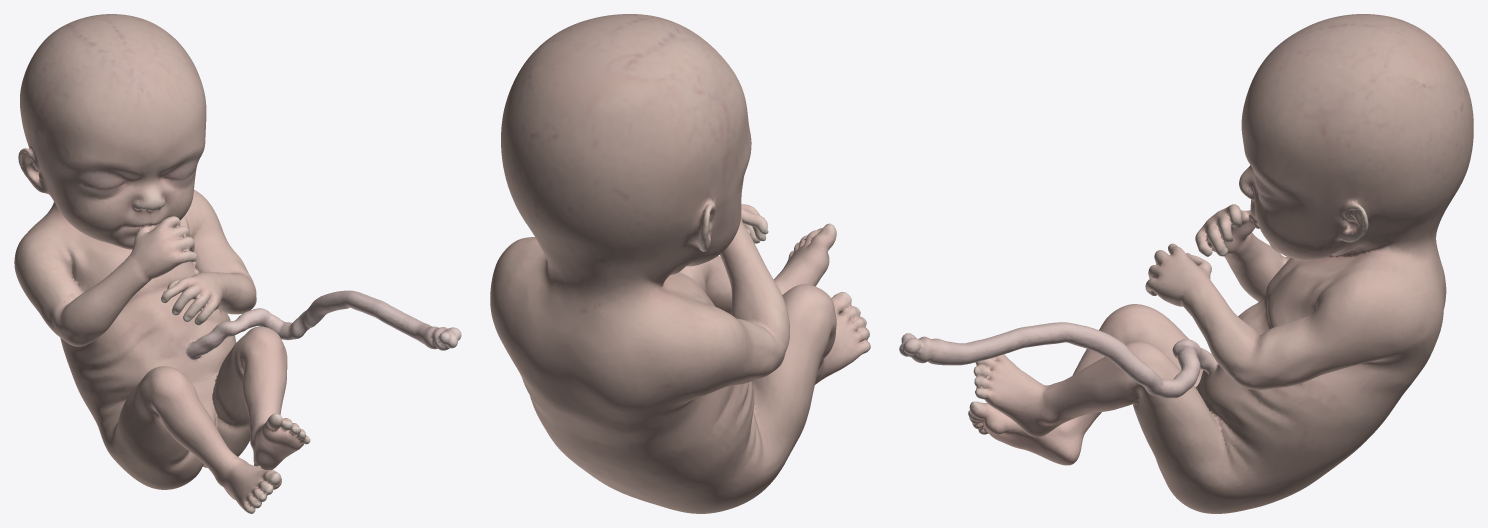
Rendered from semaine-17.glb.
3 views of the same model, side by side, from view 1: azimuth 30°, elevation 25°; view 2: azimuth 150°, elevation 25°; view 3: azimuth 270°, elevation 25° (orthographic). The views are drawn at different scales.
Bounding box in the file's own units: 1.14 × 1.83 × 2.
